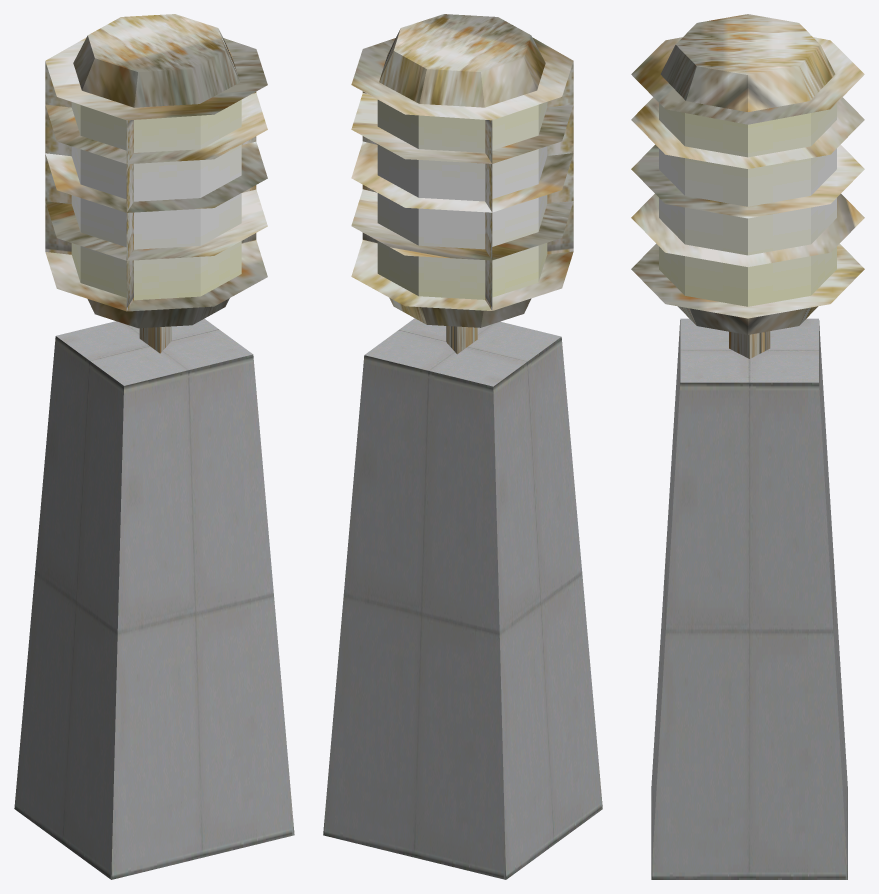
The model's file is sf_rooflite.obj.
The picture shows the model from 3 angles, left to right: view 1: azimuth 30°, elevation 25°; view 2: azimuth 150°, elevation 25°; view 3: azimuth 270°, elevation 25°; orthographic projection.
Visible parts, largest first — view 1: sf_rooflite; view 2: sf_rooflite; view 3: sf_rooflite.
Boxes of the visible parts, <box> form: sf_rooflite: <box>14,14,294,879</box>; sf_rooflite: <box>323,14,602,879</box>; sf_rooflite: <box>631,14,864,879</box>.
Bounding box in the file's own units: 0.8942 × 3.34 × 0.8942.
Materials: 4 (4 with a texture image).
